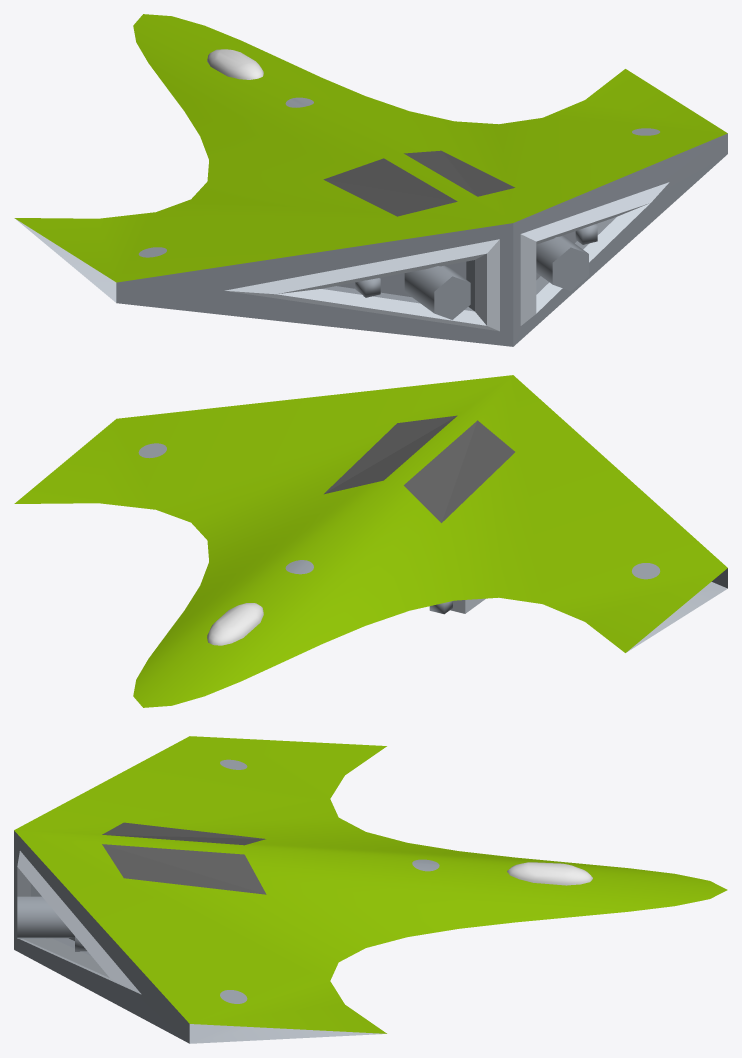
File: lod1_body.dae
The picture shows the model from 3 angles, top to bottom: view 1: azimuth 30°, elevation 25°; view 2: azimuth 150°, elevation 25°; view 3: azimuth 270°, elevation 25°; orthographic projection. The views are drawn at different scales.
Parts seen in each view (by area): view 1: lod1_1; view 2: lod1_1; view 3: lod1_1.
Boxes of the visible parts, x1,y1,x2,y2 form: lod1_1: [14, 14, 727, 346]; lod1_1: [14, 375, 727, 707]; lod1_1: [14, 736, 727, 1043].
Bounding box in the file's own units: 24.8 × 26 × 4.8.
